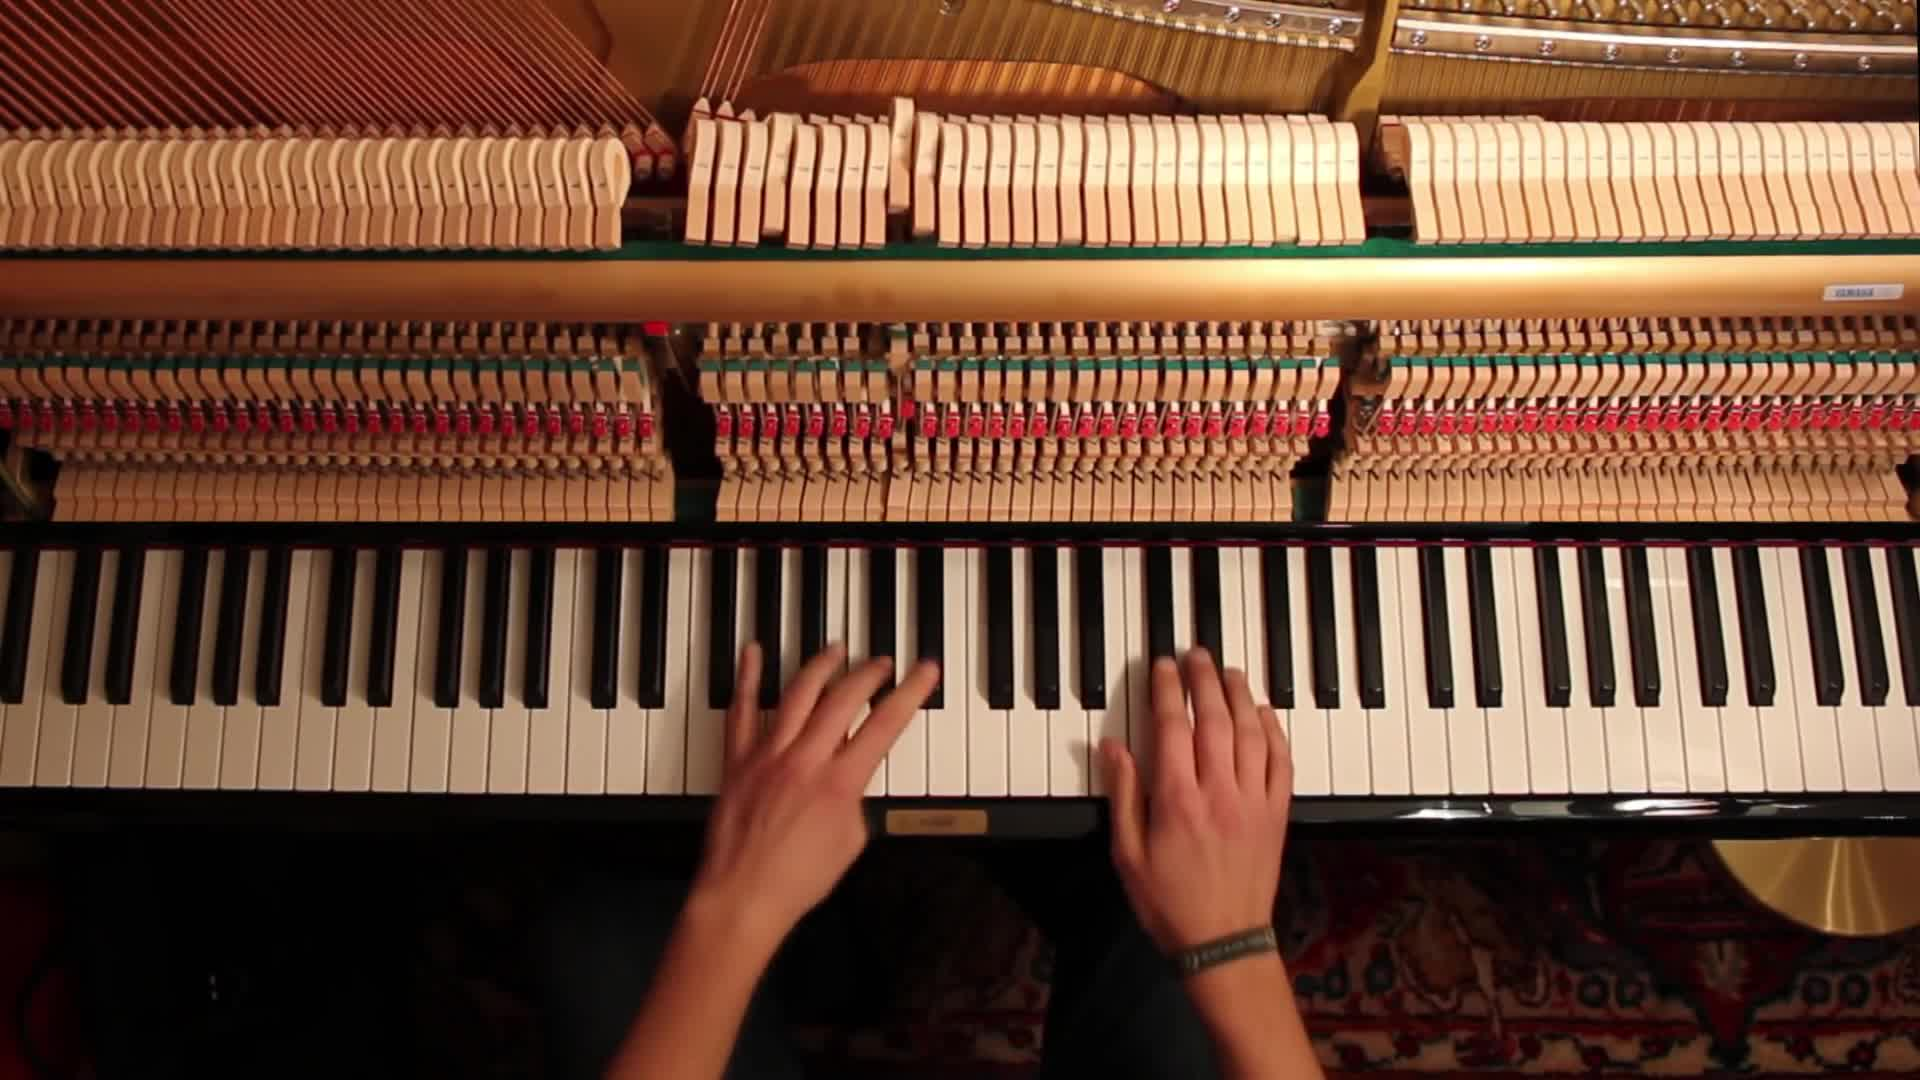left: (716, 634, 944, 897)
right: (1098, 645, 1292, 928)
